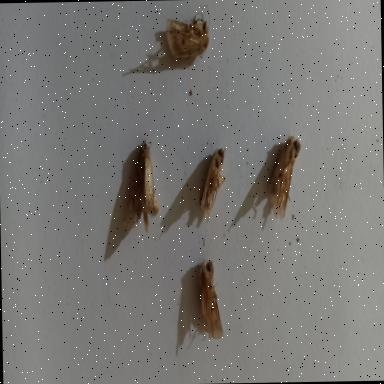abw: (122, 136, 159, 232), (268, 134, 302, 224), (165, 4, 212, 63), (198, 261, 225, 341), (199, 146, 227, 223)
